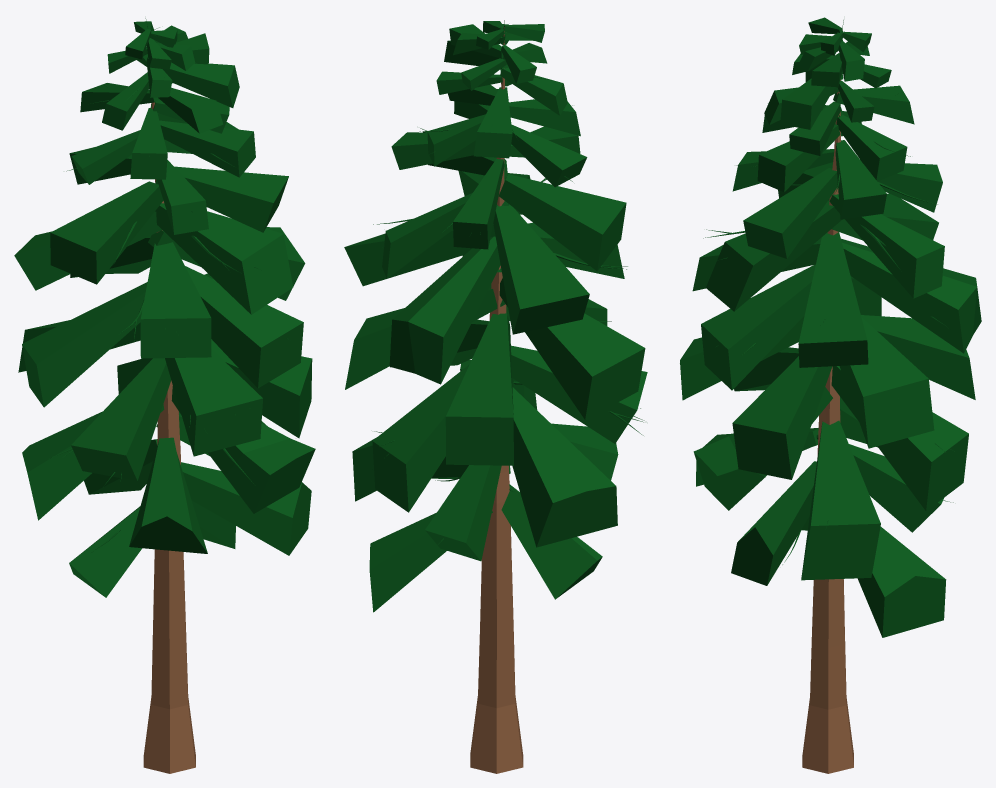
The model's file is Tree 2601.glb.
3 renders of one model, left to right at view 1: azimuth 30°, elevation 25°; view 2: azimuth 150°, elevation 25°; view 3: azimuth 270°, elevation 25°, orthographic. The views are drawn at different scales.
Parts seen in each view (by area): view 1: Tree 41; view 2: Tree 41; view 3: Tree 41.
Boxes of the visible parts, x1,y1,x2,y2 form: Tree 41: (14, 18, 315, 773); Tree 41: (344, 20, 647, 773); Tree 41: (680, 17, 981, 773).
Size of the model in its own units: 0.8007 by 2.11 by 0.7878.
